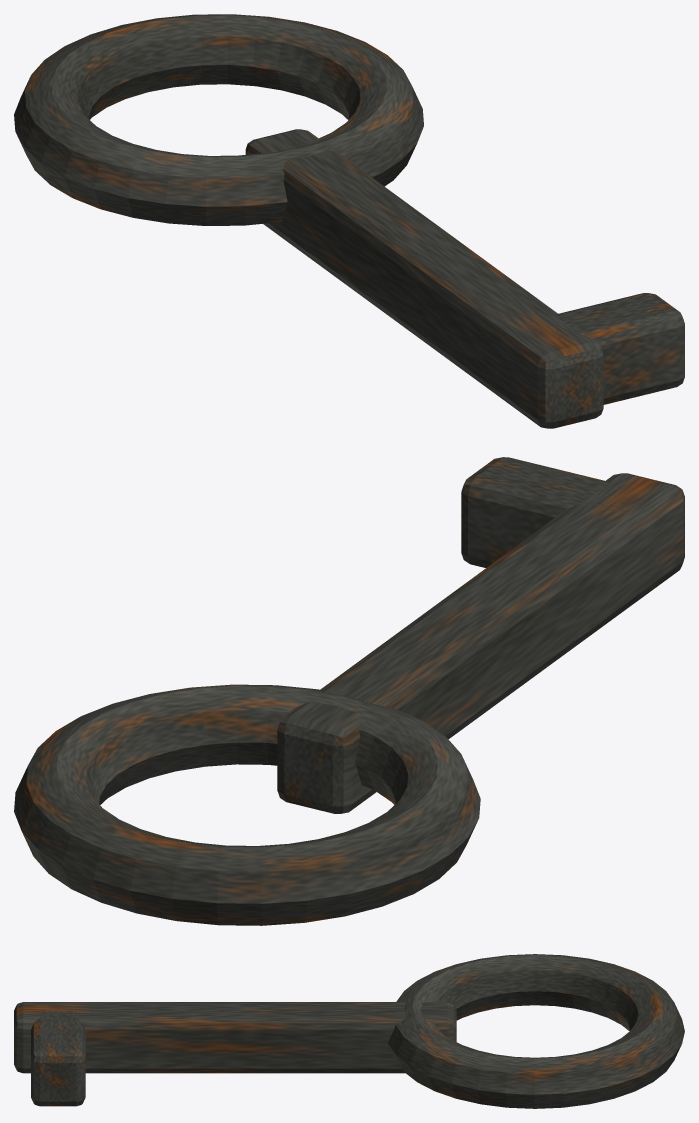
Rendered from kunci.glb.
3 renders of one model, top to bottom at view 1: azimuth 30°, elevation 25°; view 2: azimuth 150°, elevation 25°; view 3: azimuth 270°, elevation 25°, orthographic. The views are drawn at different scales.
Visible parts, largest first — view 1: Kepala, Batang, Gigi; view 2: Kepala, Batang, Gigi; view 3: Kepala, Batang, Gigi.
Boxes of the visible parts, x1,y1,x2,y2 form: Kepala: (14, 14, 423, 225); Batang: (245, 129, 603, 428); Gigi: (517, 293, 684, 404); Kepala: (14, 684, 480, 925); Batang: (277, 473, 684, 813); Gigi: (461, 457, 651, 567); Kepala: (388, 954, 684, 1108); Batang: (14, 1002, 456, 1073); Gigi: (31, 1010, 85, 1106).
Size of the model in its own units: 0.044 by 0.0095 by 0.0985.
1 material, 1 textured.
